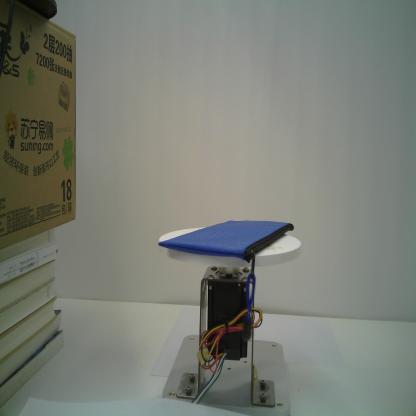Stationery: (158, 220, 294, 343)
